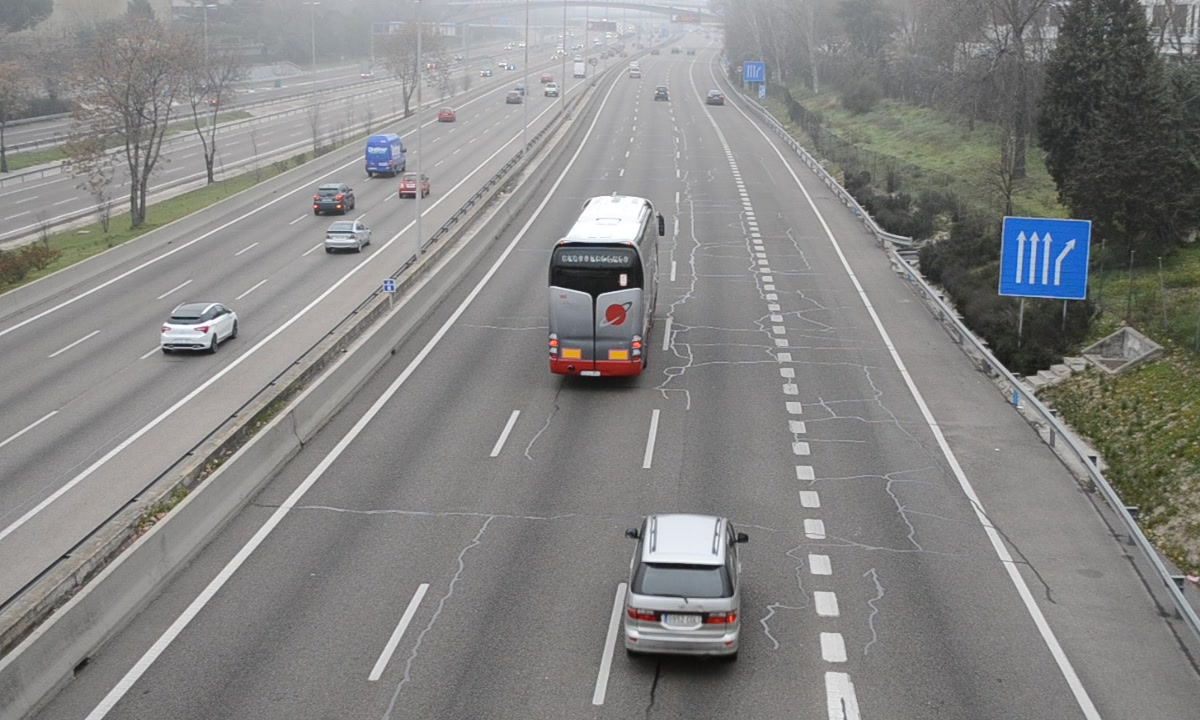bus: (546, 195, 659, 380)
car: (620, 514, 740, 658), (704, 87, 726, 106)
